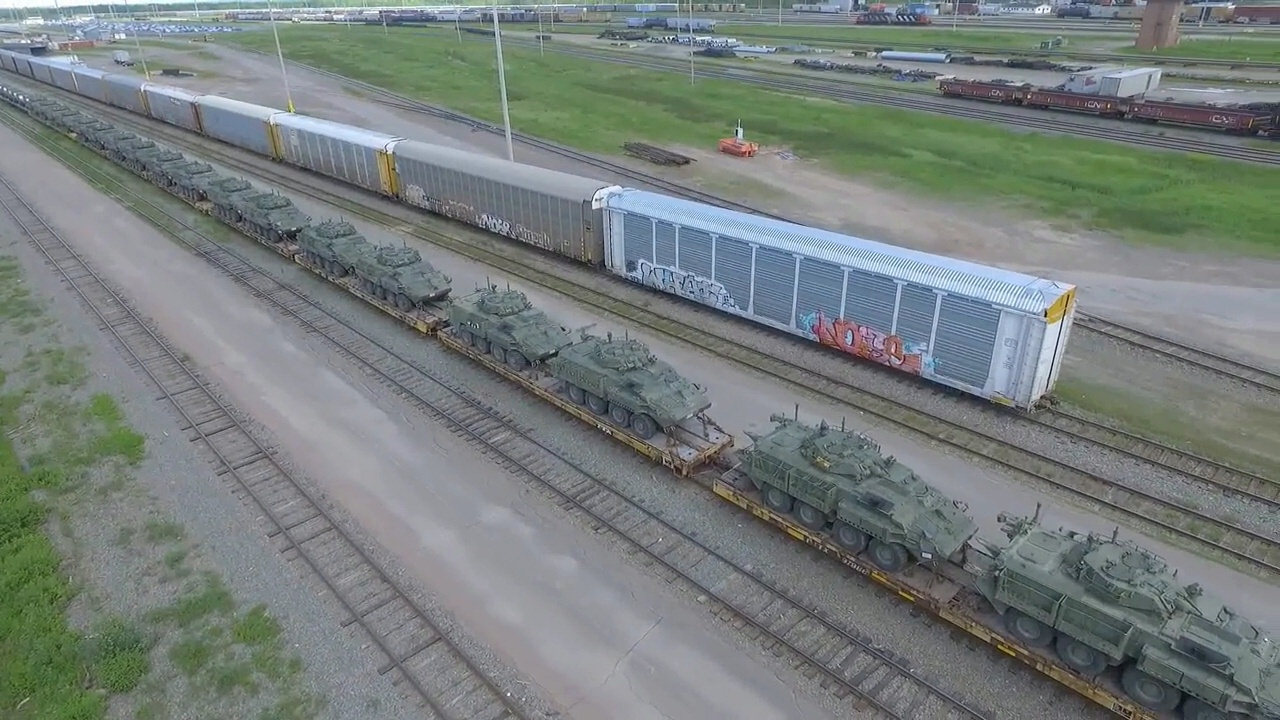tank: (996, 513, 1280, 719), (734, 416, 980, 575), (550, 332, 715, 433), (449, 286, 573, 370), (354, 245, 451, 309), (291, 219, 370, 281), (240, 193, 316, 244)
